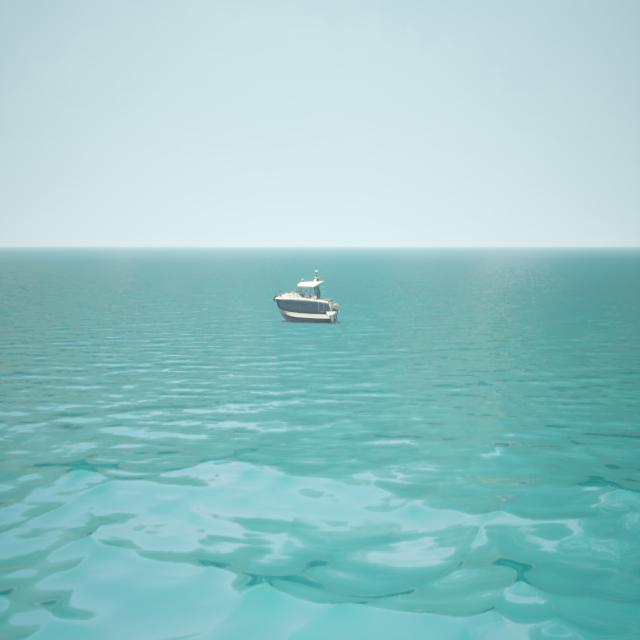ship: (272, 267, 340, 322)
